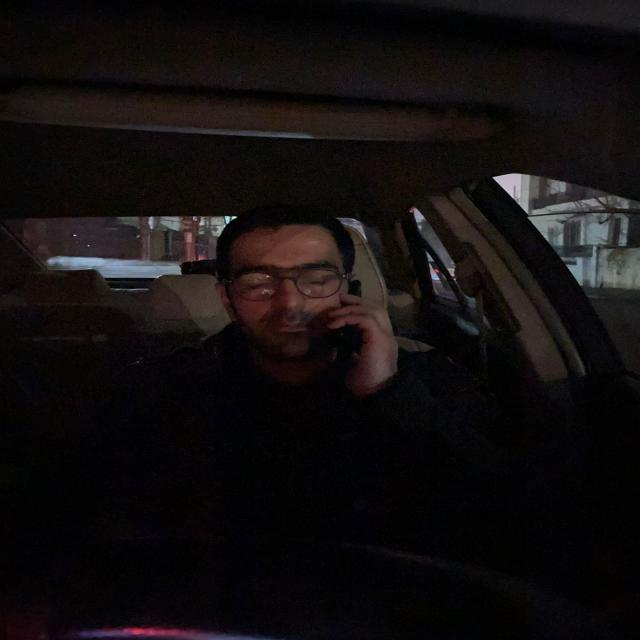mobile: (345, 278, 375, 370)
person: (217, 212, 345, 352)
